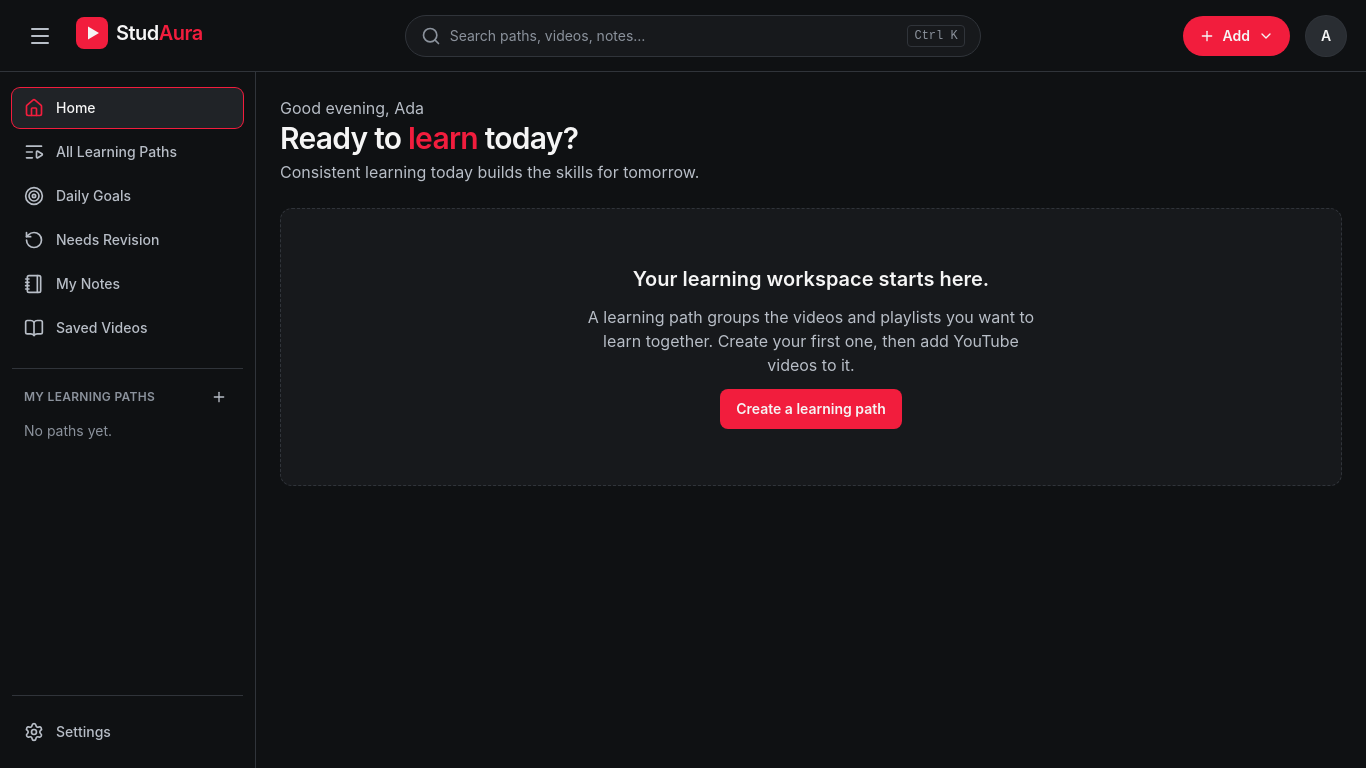
Scenario: Create learning path dialog › shows a generic error when the network fails
Click the button "Add" at (1236, 36), box [1182, 16, 1290, 56]
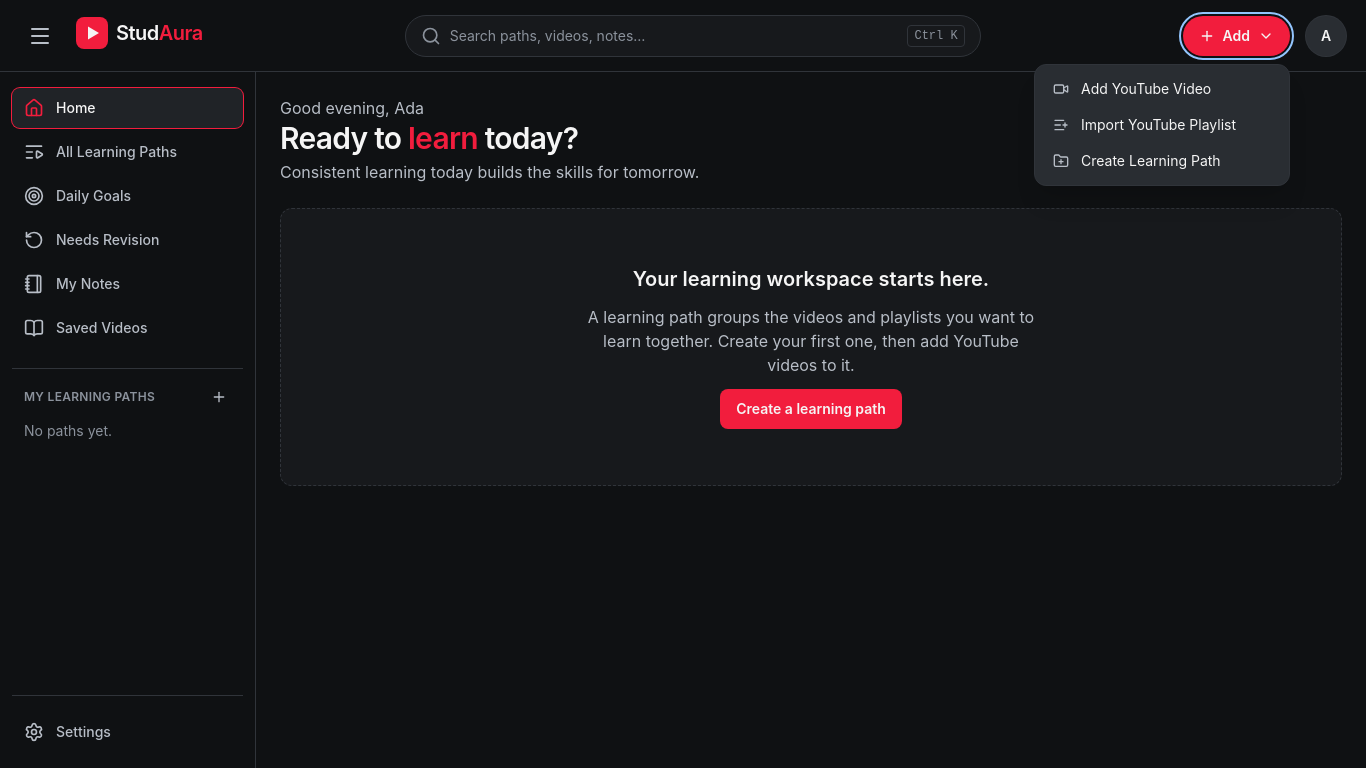
Click the menu item "Create Learning Path" at (1162, 160), box [1041, 142, 1283, 178]
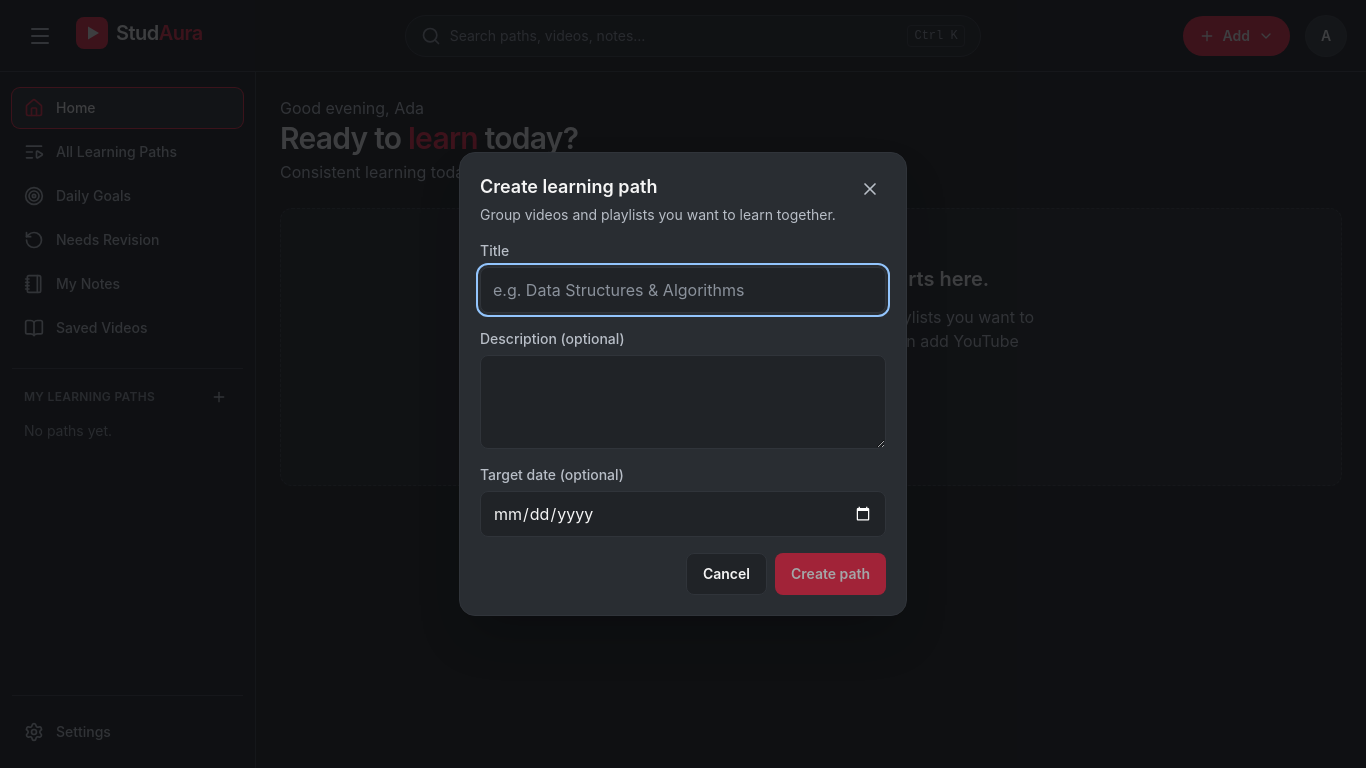
Type "My path" into the field labelled "Title" at (683, 290), box [480, 267, 886, 313]
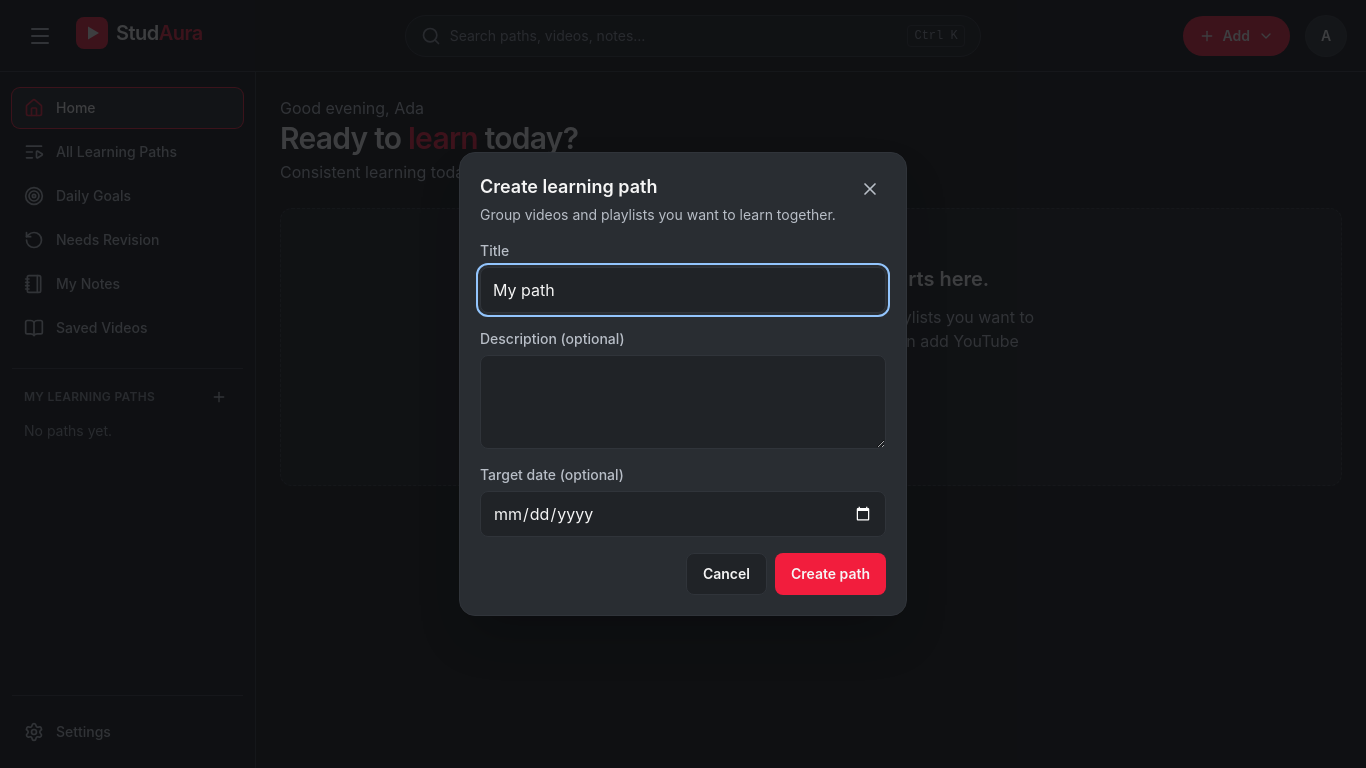
Click the button "Create path" at (830, 574), box [775, 553, 886, 595]
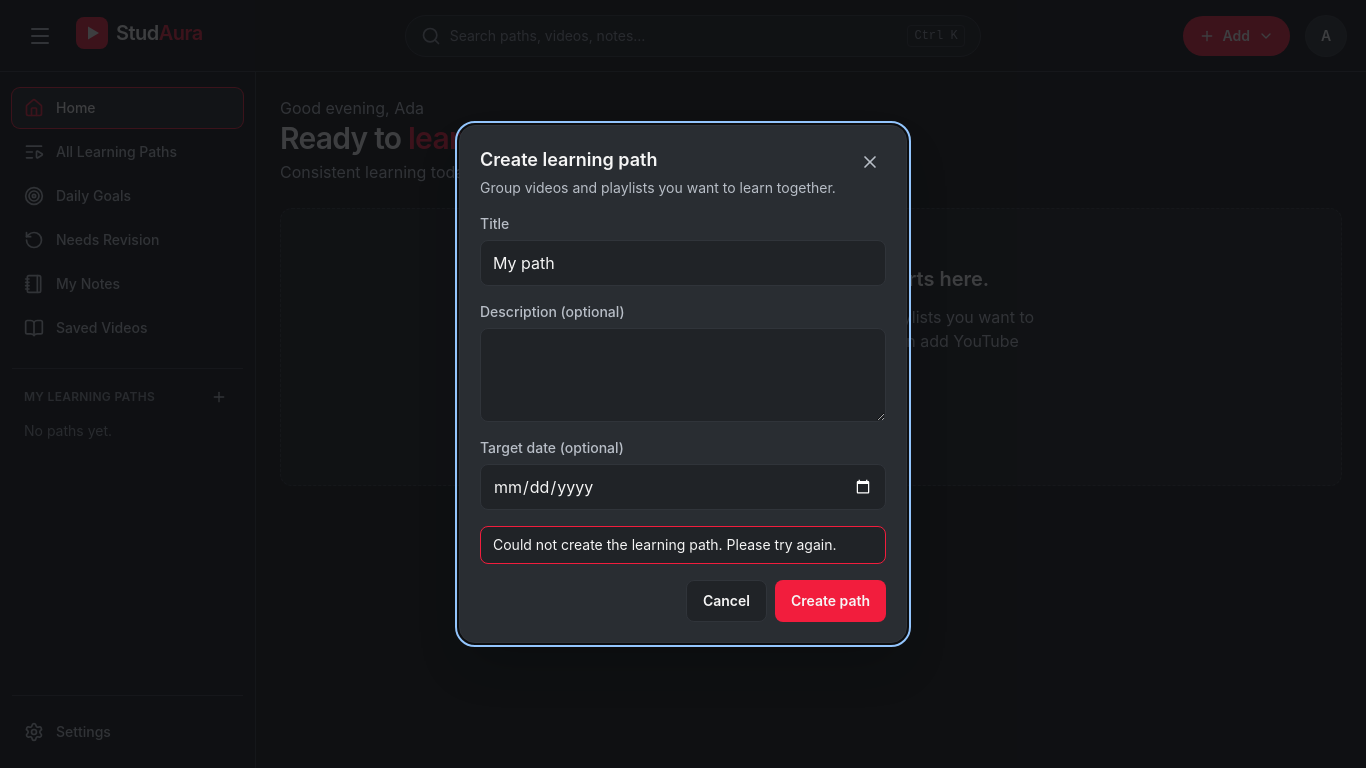
Expected: the message shows "Could not create the learning path", [493, 536, 836, 553]
